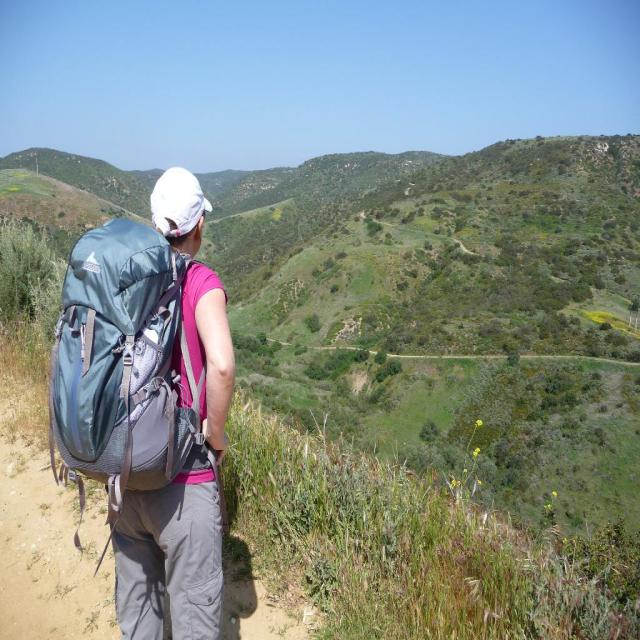backpack: (51, 223, 195, 482)
